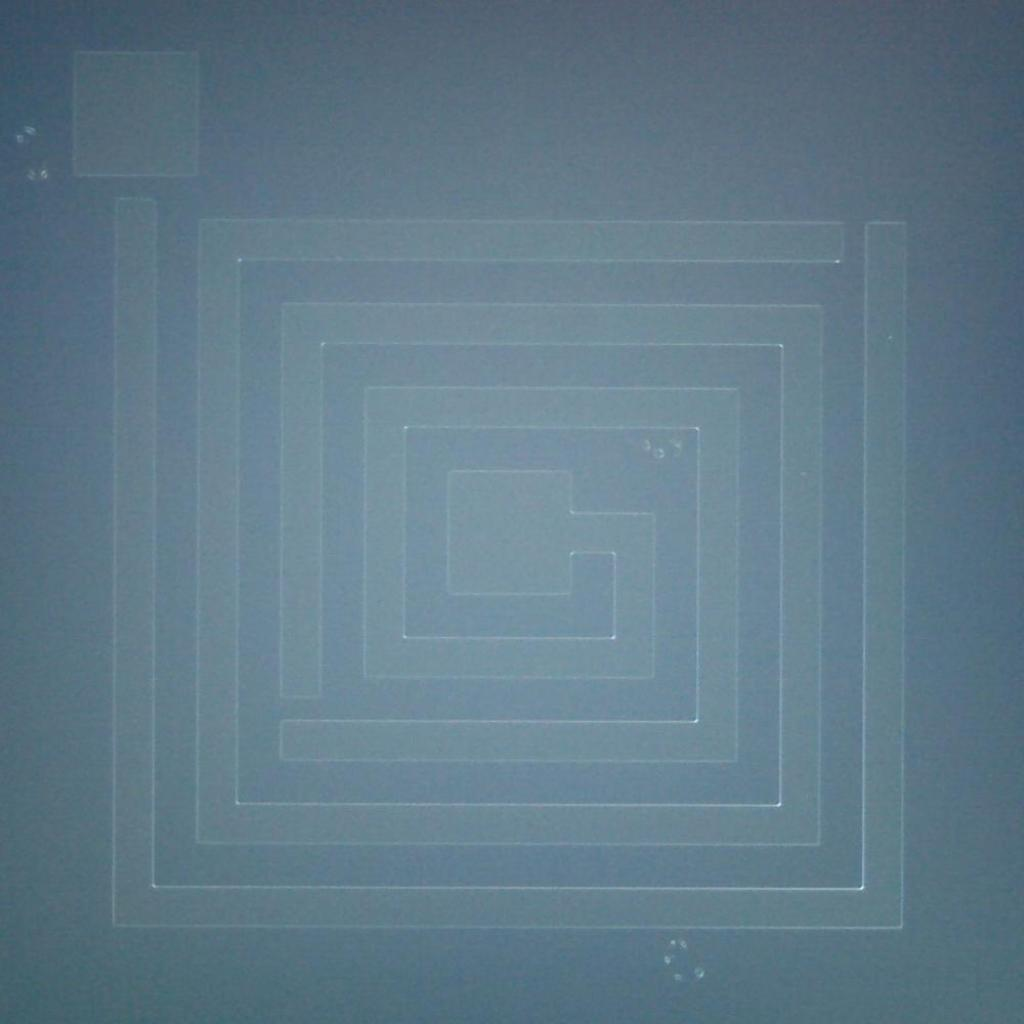dot: (39, 170, 49, 180), (16, 135, 25, 144), (662, 956, 670, 964), (800, 470, 806, 476), (670, 940, 676, 944), (836, 259, 840, 263), (888, 336, 892, 340)
